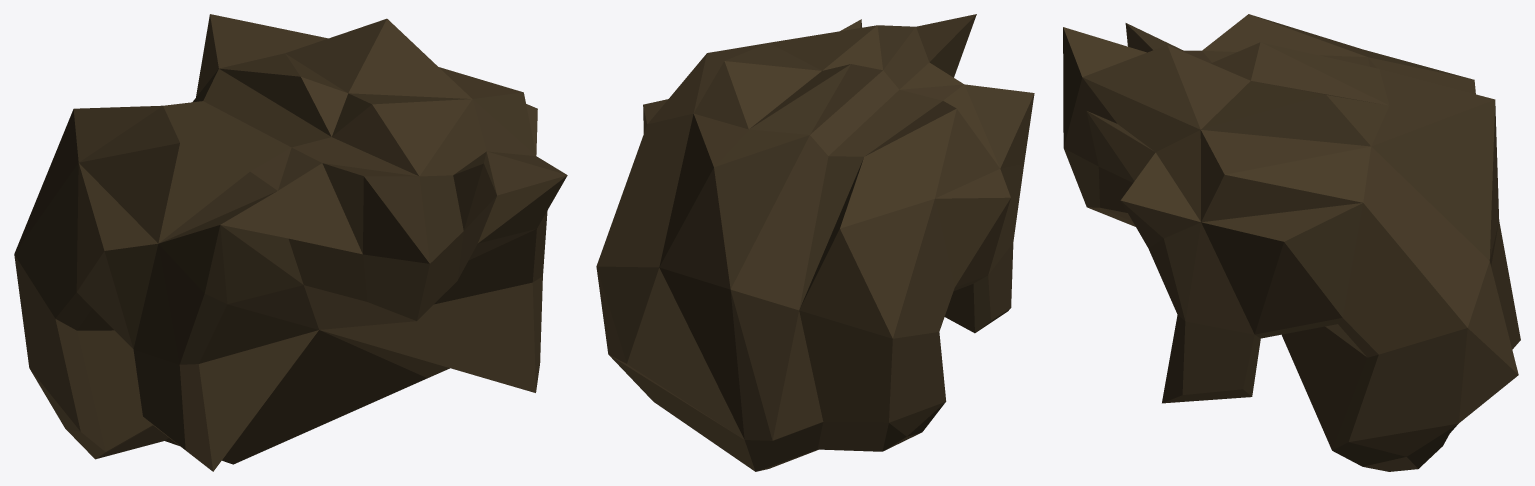
Rendered from Chr_Hair_13_Static.fbx.
3 views of the same model, side by side, from view 1: azimuth 30°, elevation 25°; view 2: azimuth 150°, elevation 25°; view 3: azimuth 270°, elevation 25° (orthographic). The views are drawn at different scales.
Parts seen in each view (by area): view 1: Chr_Hair_13_Static; view 2: Chr_Hair_13_Static; view 3: Chr_Hair_13_Static.
Boxes of the visible parts, left/top/right/bottom form: Chr_Hair_13_Static: left=14, top=14, right=567, bottom=471; Chr_Hair_13_Static: left=596, top=14, right=1034, bottom=471; Chr_Hair_13_Static: left=1063, top=14, right=1520, bottom=471.
Bounding box in the file's own units: 0.2828 × 0.277 × 0.281.
